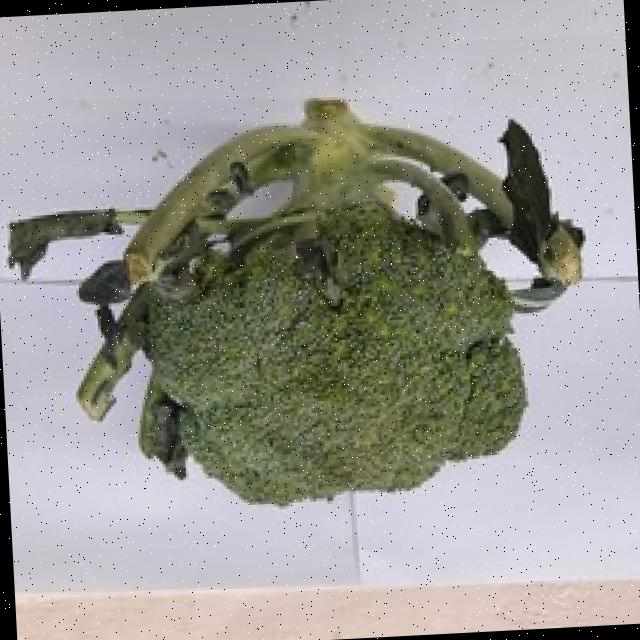Broccoli: (147, 209, 524, 500), (147, 210, 524, 500)
